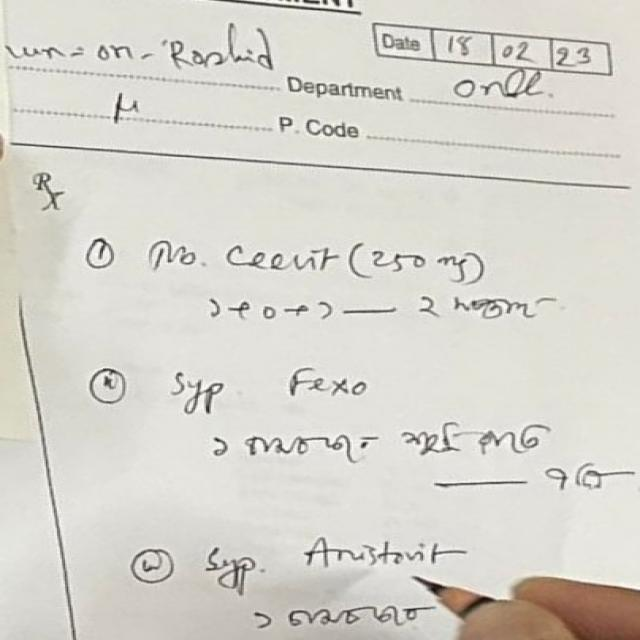Aristovit: (286, 526, 468, 579)
Ceevit: (212, 235, 345, 281)
Fexo: (273, 359, 382, 407)
